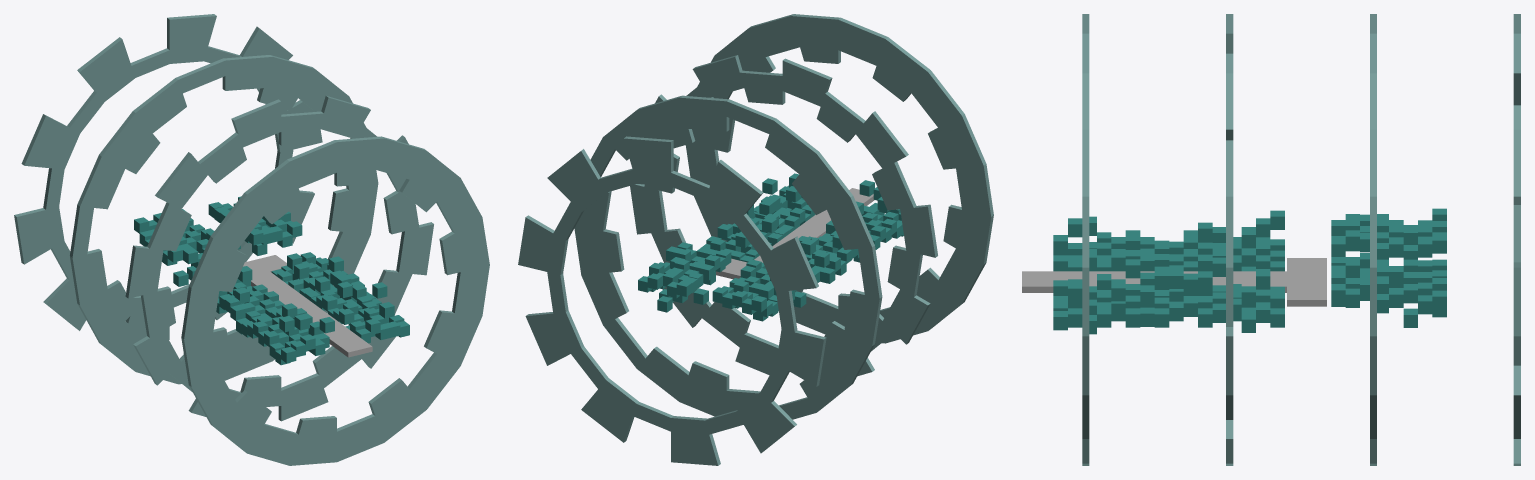
File: stage04.fbx
The picture shows the model from 3 angles, left to right: view 1: azimuth 30°, elevation 25°; view 2: azimuth 150°, elevation 25°; view 3: azimuth 270°, elevation 25°; orthographic projection. The views are drawn at different scales.
Parts seen in each view (by area): view 1: polySurface28, pCube115, pCube9; view 2: polySurface28, pCube115, pCube9; view 3: pCube115, polySurface28, pCube9.
Boxes of the visible parts, x1,y1,x2,y2 form: polySurface28: (14,14,489,465); pCube115: (134,196,409,365); pCube9: (243,255,372,357); polySurface28: (518,14,993,465); pCube115: (638,173,903,321); pCube9: (716,188,874,279); pCube115: (1053,208,1446,334); polySurface28: (1082,14,1520,465); pCube9: (1022,258,1326,306).
Size of the model in its own units: 3147 by 3147 by 3447.
Materials: 3 (2 with a texture image).
